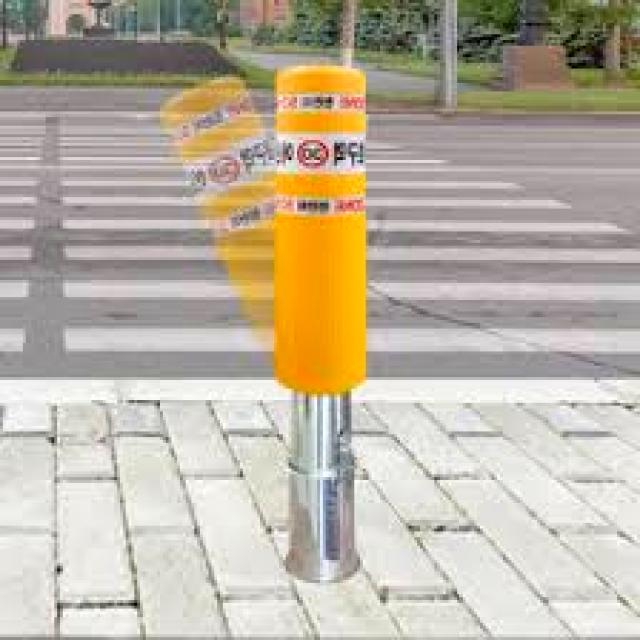bollard: (260, 39, 389, 589)
